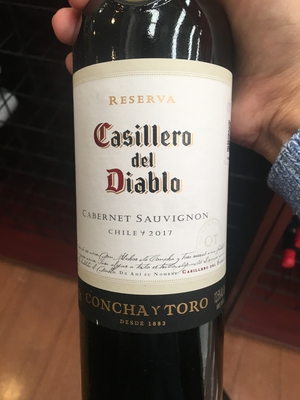casillero del diablo cabernet sauvignon: (65, 6, 245, 400)
